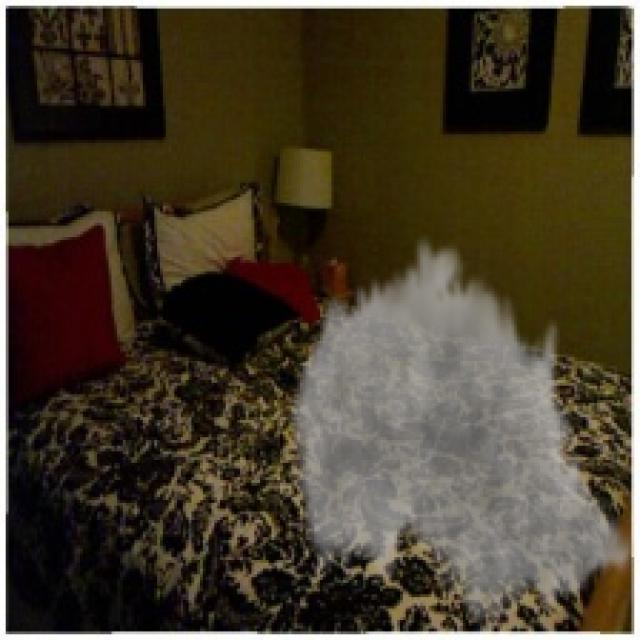Smoke: (286, 228, 638, 638)
